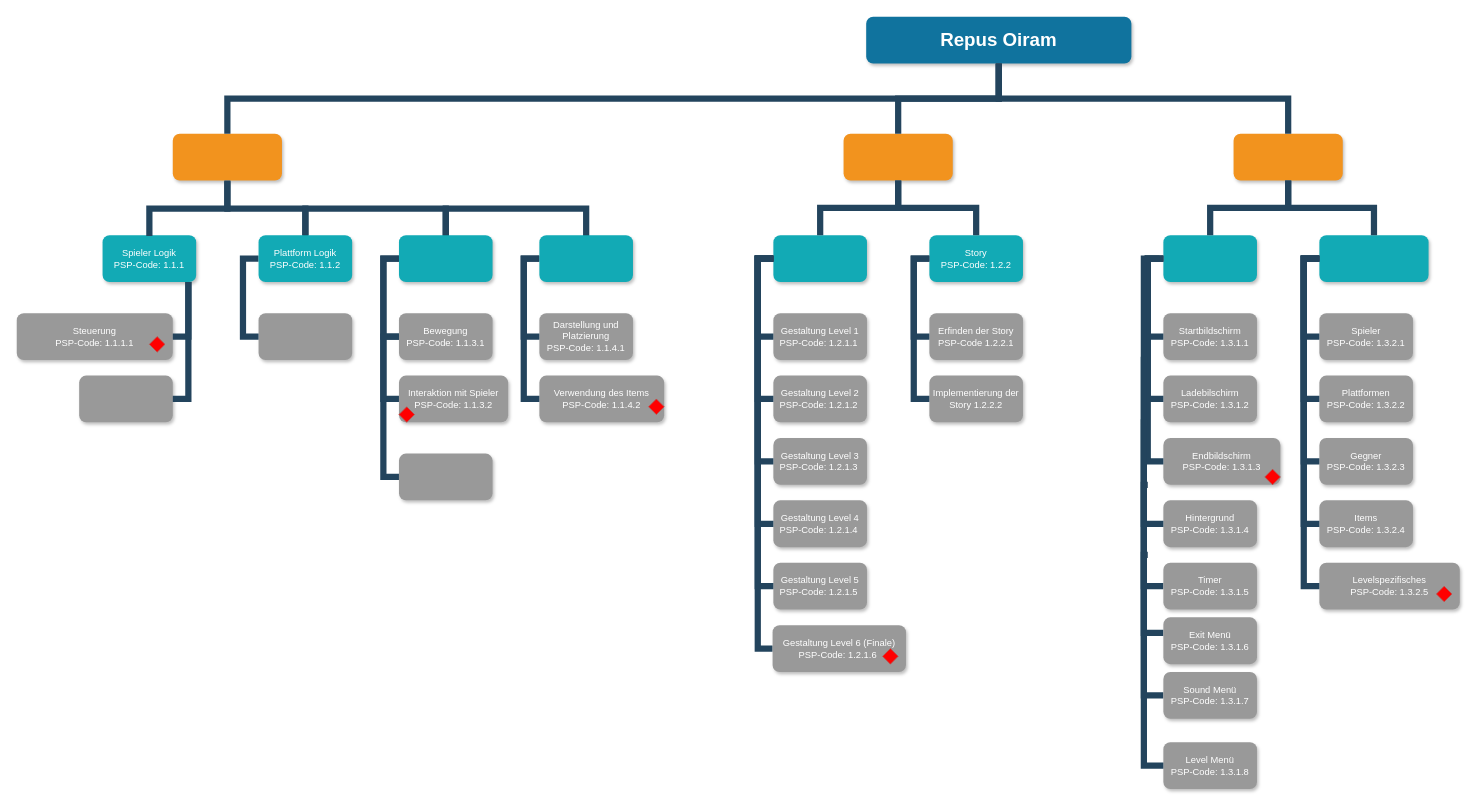
Image size: 1477x807. Some labels were removed from this diagram. The shapes that lost their labels are listed below. From the top down, each one's centre as x and y in pixels, then its label:
At (x=227, y=158): "Game Logik PSP-Code: 1.1".
At (x=898, y=158): "Game Design PSP-Code: 1.2".
At (x=1288, y=158): "Grafisches Design PSP-Code: 1.3".
At (x=446, y=259): "Gegner Logik PSP-Code: 1.1.3".
At (x=586, y=259): "Item Logik PSP-Code: 1.1.4".
At (x=820, y=259): "Level Design PSP-Code: 1.2.1".
At (x=1210, y=259): "UI Design PSP-Code: 1.3.1".
At (x=1374, y=259): "Game-Element Design PSP-Code: 1.3.2".
At (x=305, y=337): "Platzierung und Darstellung PSP-Code: 1.1.2.1".
At (x=126, y=399): "Interaktion mit Plattformen PSP-Code: 1.1.1.2".
At (x=446, y=477): "Platzierung PSP-Code: 1.1.3.3".
